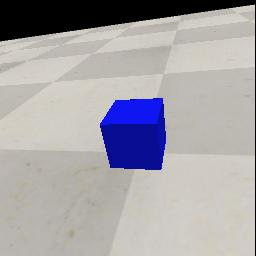box: (100, 98, 166, 170)
